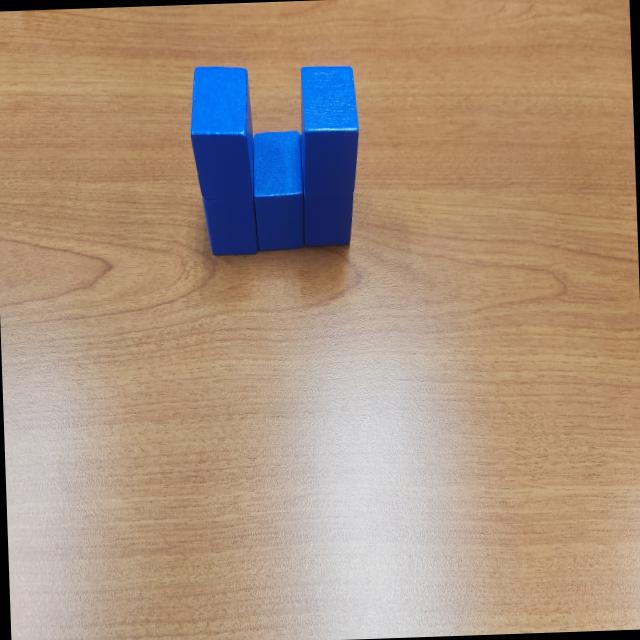blue: (187, 65, 257, 202), (298, 63, 361, 197), (251, 130, 306, 254), (300, 131, 356, 248), (202, 192, 256, 257)
